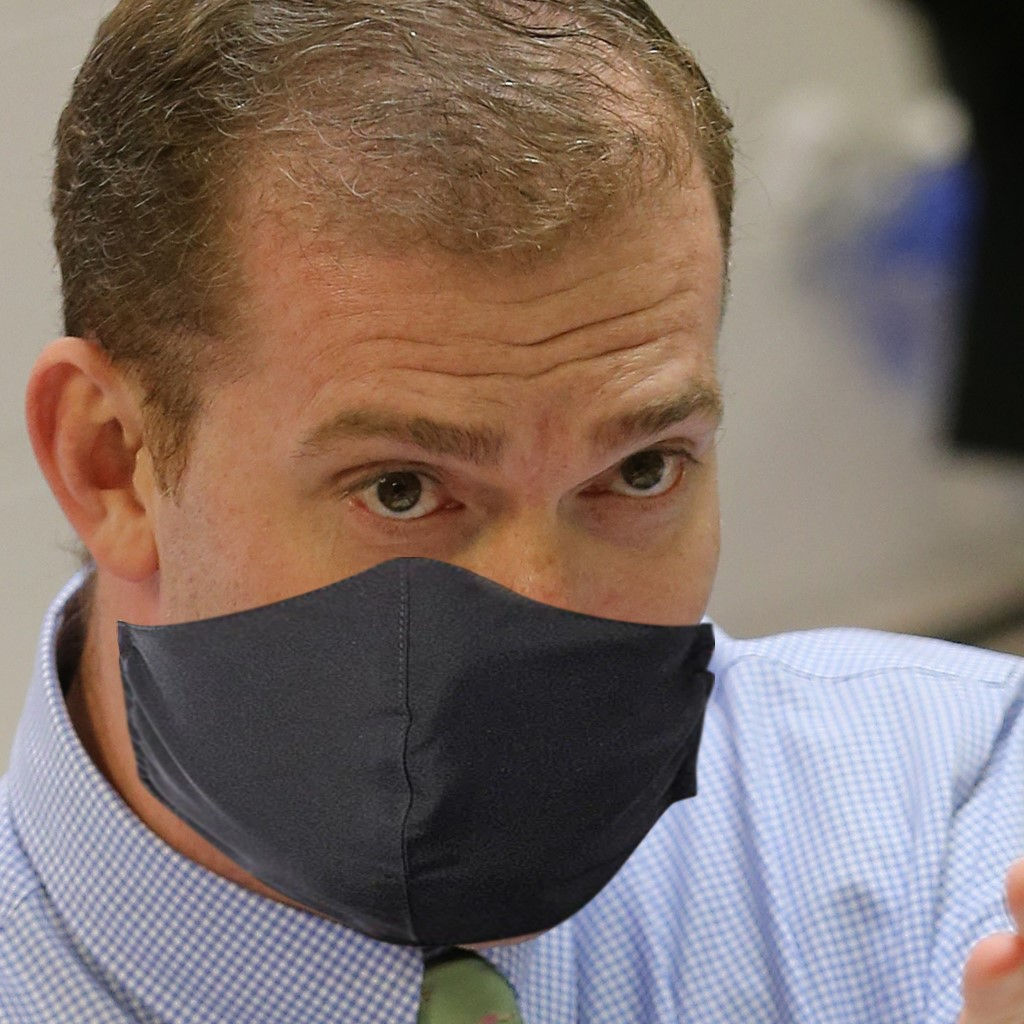con_mascara: (120, 113, 734, 930)
